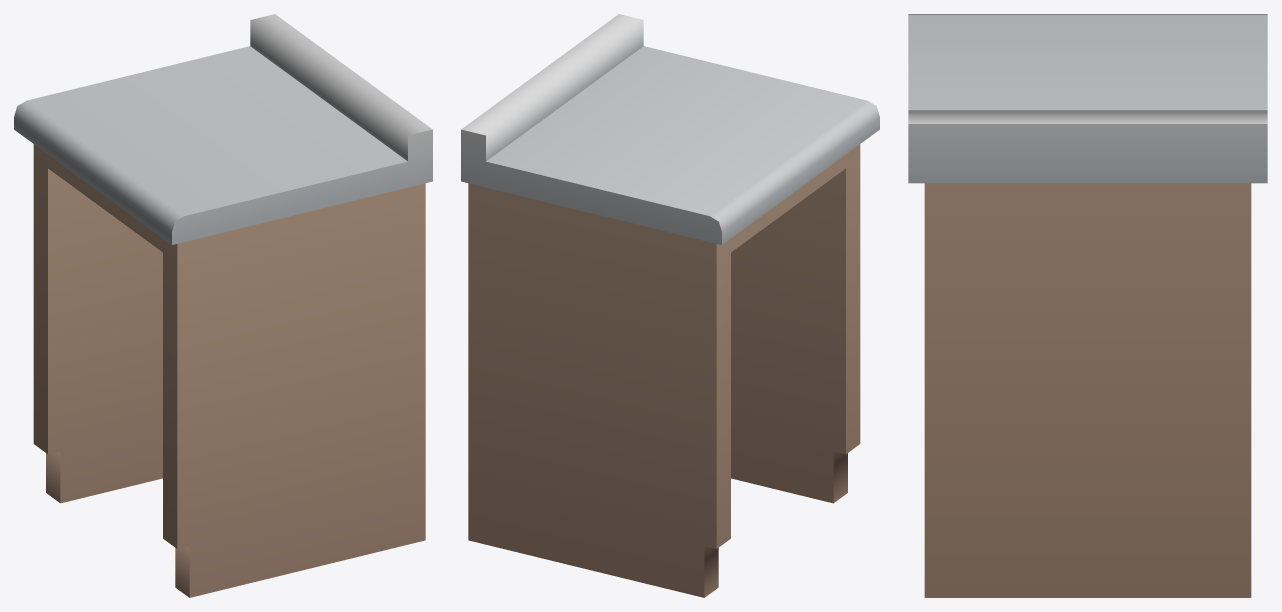
The model's file is cabinet-basic-open.glb.
3 views of the same model, side by side, from view 1: azimuth 30°, elevation 25°; view 2: azimuth 150°, elevation 25°; view 3: azimuth 270°, elevation 25° (orthographic). The views are drawn at different scales.
Visible parts, largest first — view 1: cabinet-basic-open; view 2: cabinet-basic-open; view 3: cabinet-basic-open.
Part boxes in pixels (x1,y1,x2,y2): cabinet-basic-open: [14, 14, 432, 597]; cabinet-basic-open: [461, 14, 879, 597]; cabinet-basic-open: [908, 14, 1267, 597].
Size of the model in its own units: 0.525 by 0.8 by 0.55.
